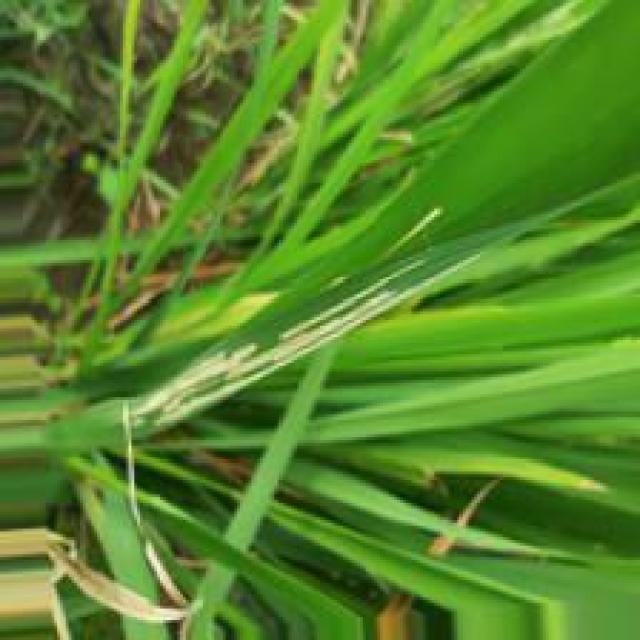Rice_Hispa: (119, 247, 438, 430)
